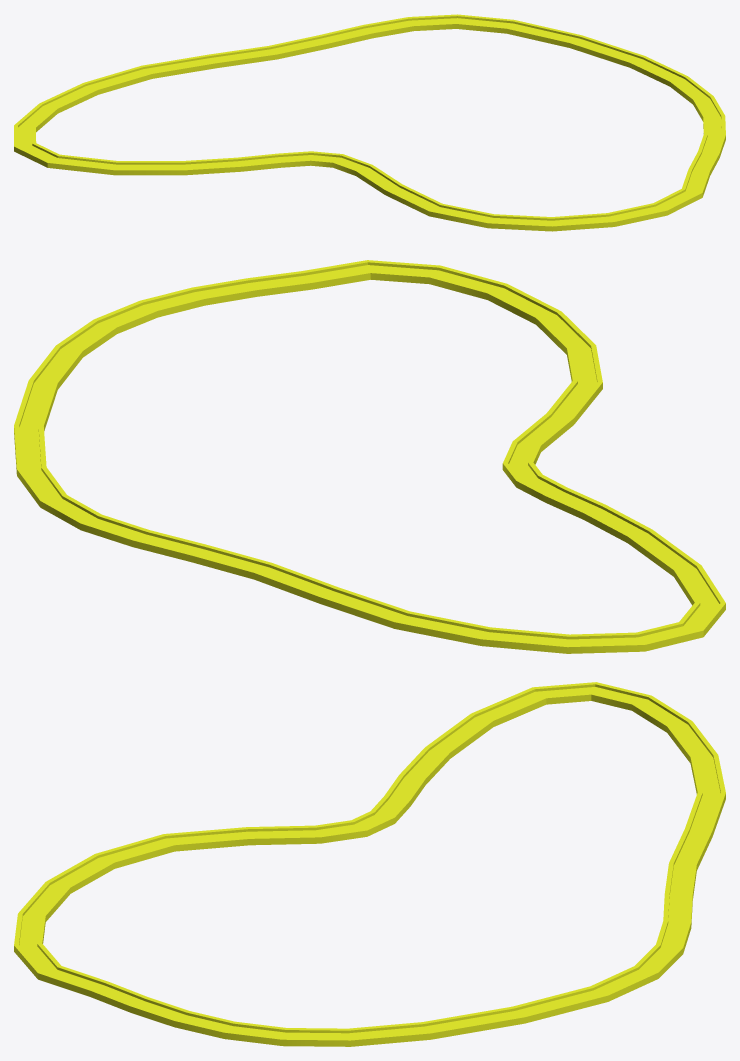
The model's file is rail.fbx.
3 views of the same model, one above another, from view 1: azimuth 30°, elevation 25°; view 2: azimuth 150°, elevation 25°; view 3: azimuth 270°, elevation 25° (orthographic). The views are drawn at different scales.
Parts seen in each view (by area): view 1: Line001; view 2: Line001; view 3: Line001.
Boxes of the visible parts, <box> form: Line001: <box>14,14,725,231</box>; Line001: <box>14,260,725,653</box>; Line001: <box>14,682,725,1046</box>.
Size of the model in its own units: 241 by 2 by 203.
